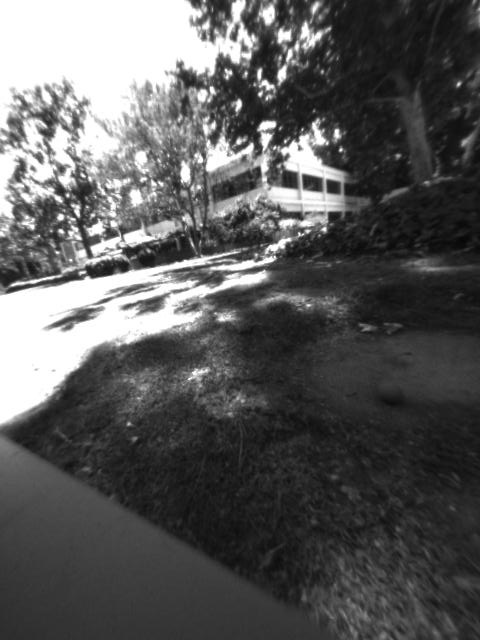dogtoy: (371, 371, 413, 413)
